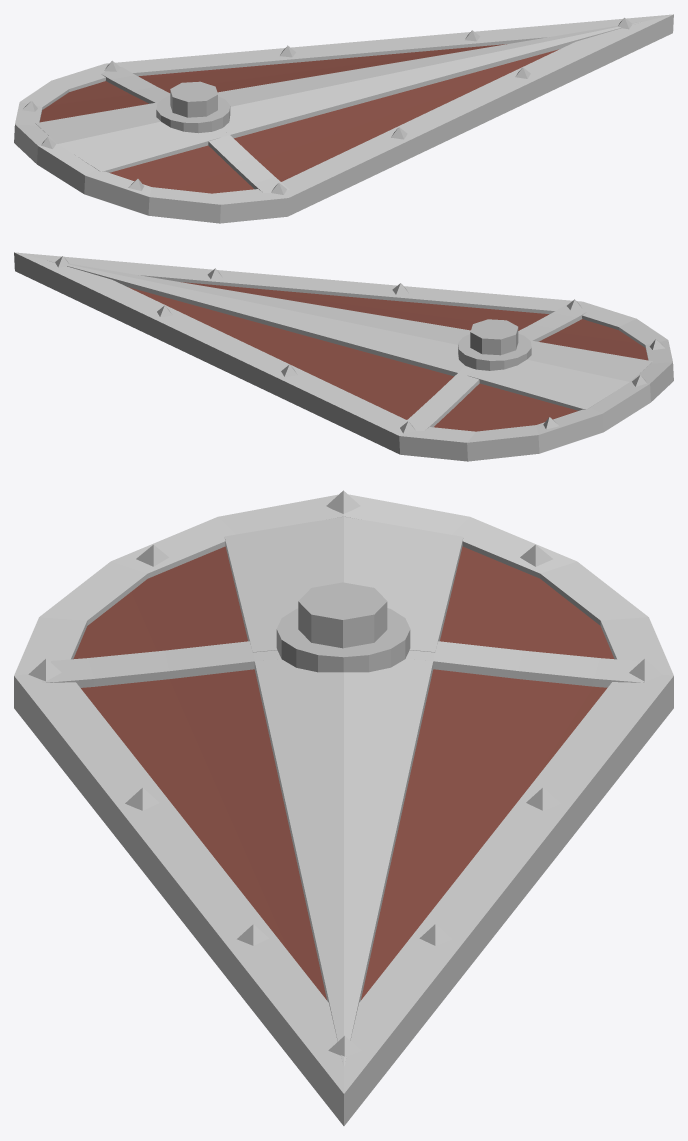
Rendered from Shield_3_c_r.fbx.
3 views of the same model, one above another, from view 1: azimuth 30°, elevation 25°; view 2: azimuth 150°, elevation 25°; view 3: azimuth 270°, elevation 25° (orthographic). The views are drawn at different scales.
Parts seen in each view (by area): view 1: Circle.001, Circle, Circle.005, Circle.004, Circle.003, Circle.002; view 2: Circle.001, Circle, Circle.005, Circle.004, Circle.003, Circle.002; view 3: Circle.001, Circle, Circle.005, Circle.004, Circle.003, Circle.002.
Part boxes in pixels (box(x1,y1,x2,y2)): Circle.001: box(14, 14, 673, 223); Circle: box(40, 44, 558, 193); Circle.005: box(35, 21, 642, 172); Circle.004: box(101, 67, 289, 192); Circle.003: box(170, 81, 217, 117); Circle.002: box(156, 96, 230, 133); Circle.001: box(14, 252, 673, 461); Circle: box(129, 282, 647, 431); Circle.005: box(45, 259, 652, 410); Circle.004: box(398, 305, 586, 430); Circle.003: box(470, 319, 518, 355); Circle.002: box(458, 333, 531, 370); Circle.001: box(14, 494, 673, 1125); Circle: box(73, 546, 614, 999); Circle.005: box(224, 516, 463, 1065); Circle.004: box(42, 641, 645, 687); Circle.003: box(298, 582, 387, 648); Circle.002: box(276, 608, 410, 672).
Size of the model in its own units: 148 by 19.83 by 74.
